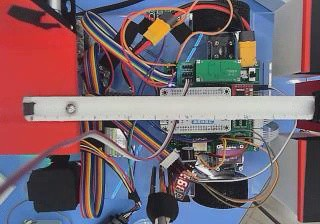ironball: (64, 102, 76, 113)
